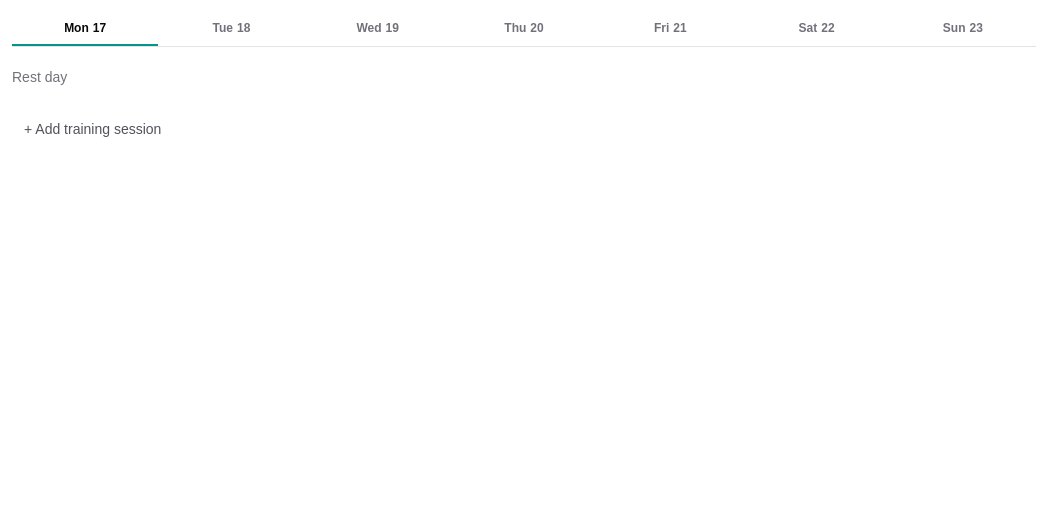
Test: falls back to Monday and changes the selected agenda
Expected: the text "Rest day" is shown, [12, 69, 67, 85]
What coordinates should you click on to do the following:
click the tab with aria-label "Wednesday 19 August"
I would click on:
 (378, 29)
Its box is [305, 12, 451, 46].
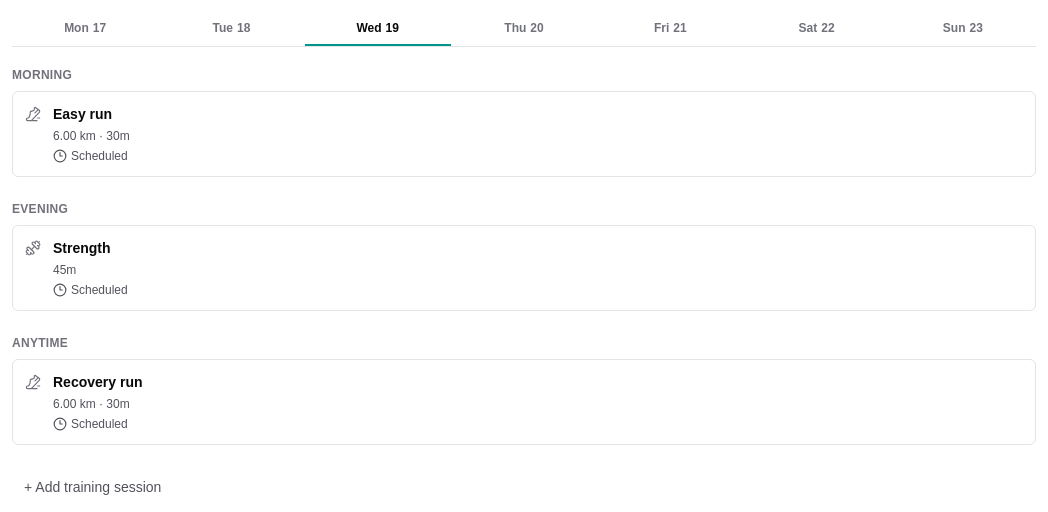
Result: the text "Easy run" is shown at [53, 106, 112, 122]
Result: the text "Rest day" is gone
